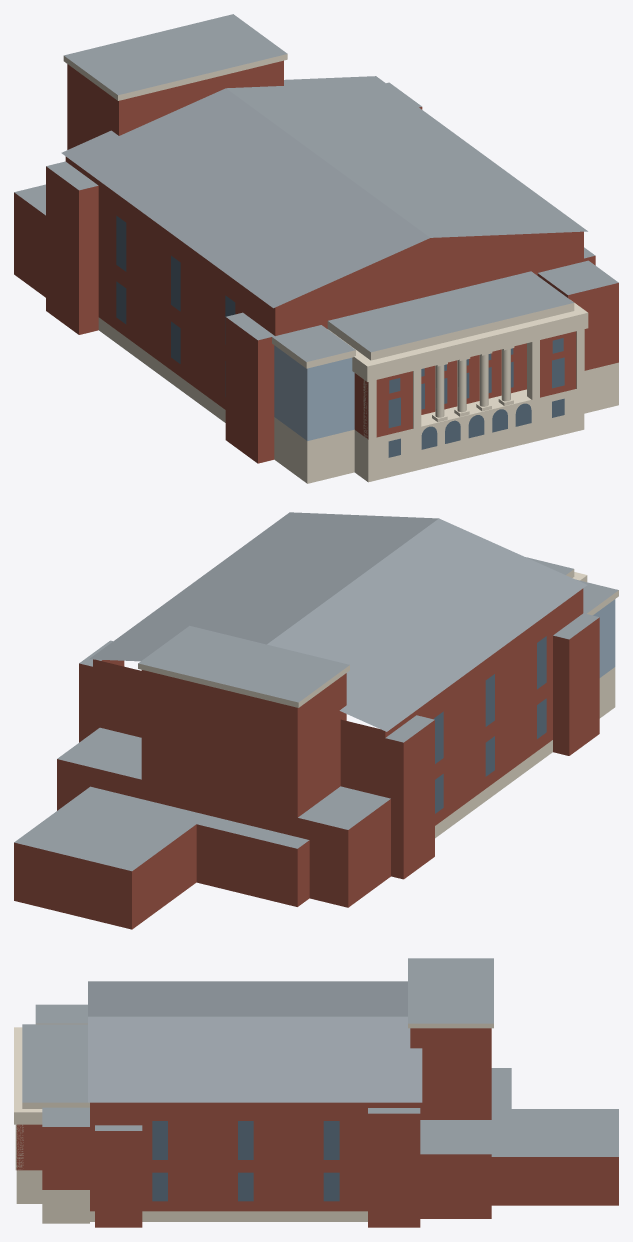
The model's file is cola-township-auditorium.glb.
3 views of the same model, one above another, from view 1: azimuth 30°, elevation 25°; view 2: azimuth 150°, elevation 25°; view 3: azimuth 270°, elevation 25° (orthographic). The views are drawn at different scales.
Parts seen in each view (by area): view 1: Township Auditorium; view 2: Township Auditorium; view 3: Township Auditorium.
Part boxes in pixels (x1,y1,x2,y2): Township Auditorium: (14, 14, 618, 483); Township Auditorium: (14, 512, 618, 929); Township Auditorium: (14, 958, 618, 1227).
Size of the model in its own units: 43.7 by 25 by 84.65.
